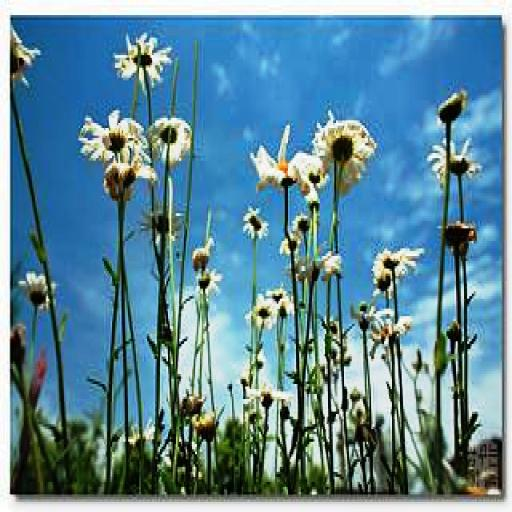daisy: (78, 113, 142, 158), (315, 121, 379, 163), (117, 38, 168, 82), (8, 15, 37, 85), (435, 140, 477, 186), (254, 143, 301, 183), (150, 116, 192, 158), (374, 241, 418, 274), (142, 206, 178, 241), (370, 314, 410, 344), (24, 274, 53, 311), (252, 382, 290, 409), (436, 90, 466, 123), (251, 296, 275, 326), (194, 266, 219, 294), (246, 206, 266, 238), (277, 294, 293, 321)
